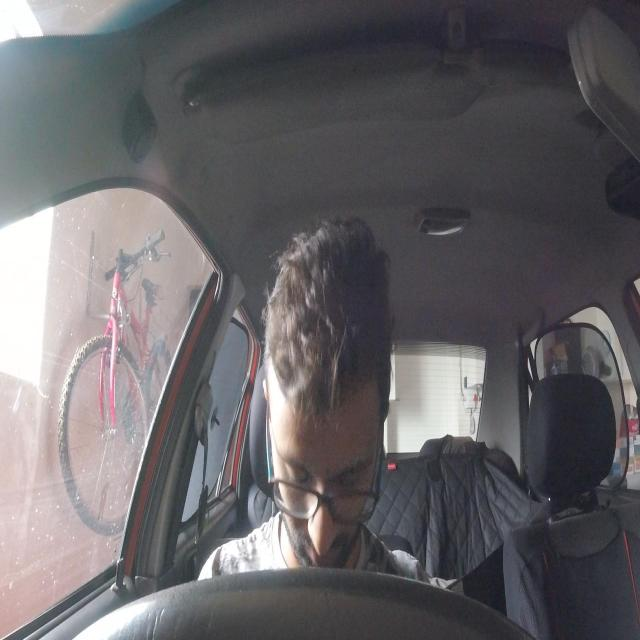close: (280, 449, 312, 495)
